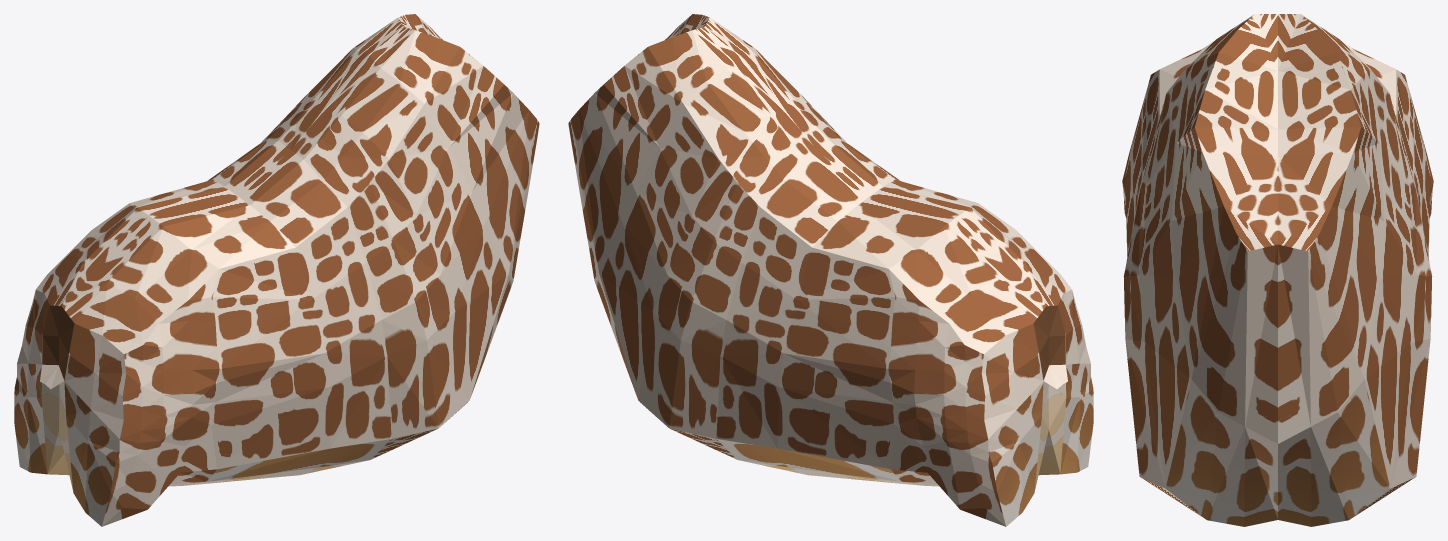
The model's file is giraffe_body.obj.
The picture shows the model from 3 angles, left to right: view 1: azimuth 30°, elevation 25°; view 2: azimuth 150°, elevation 25°; view 3: azimuth 270°, elevation 25°; orthographic projection. The views are drawn at different scales.
Visible parts, largest first — view 1: Plane; view 2: Plane; view 3: Plane.
Part boxes in pixels (x1,y1,x2,y2): Plane: (14,14,539,526); Plane: (568,14,1093,526); Plane: (1122,14,1433,526).
Bounding box in the file's own units: 2.07 × 1.73 × 0.8782.
Materials: 4 (3 with a texture image).
